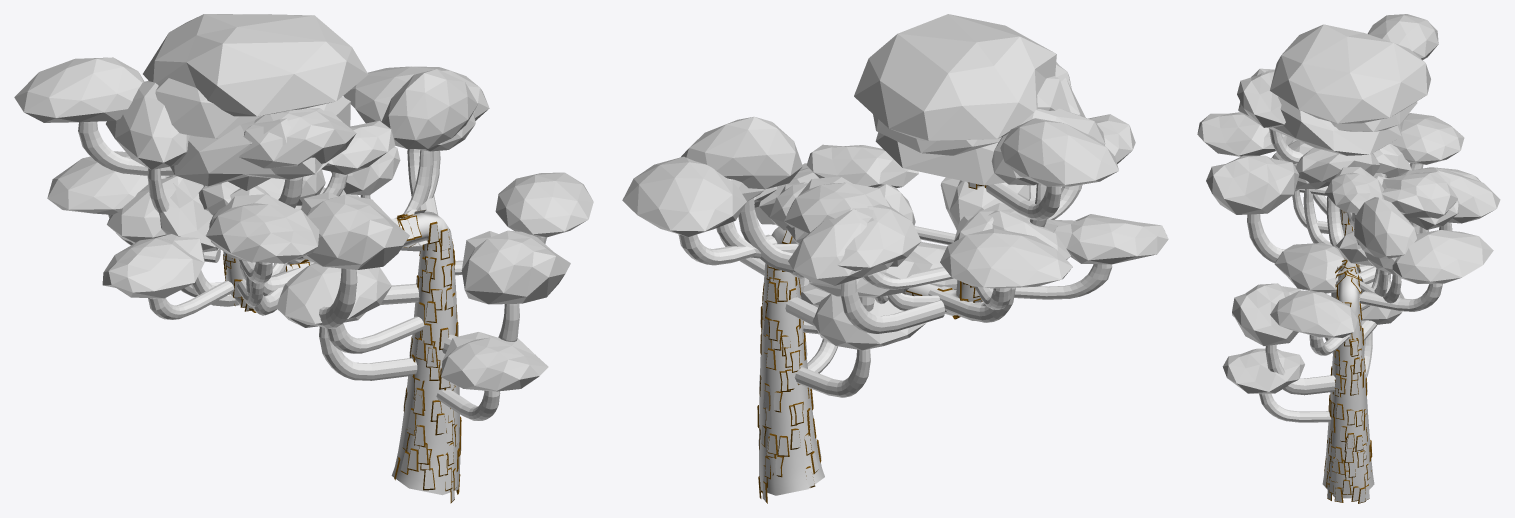
The model's file is Tree02.fbx.
The picture shows the model from 3 angles, left to right: view 1: azimuth 30°, elevation 25°; view 2: azimuth 150°, elevation 25°; view 3: azimuth 270°, elevation 25°; orthographic projection. The views are drawn at different scales.
Parts seen in each view (by area): view 1: Tree02; view 2: Tree02; view 3: Tree02.
Boxes of the visible parts, x1=… form: Tree02: x1=14, y1=14, x2=593, y2=503; Tree02: x1=622, y1=14, x2=1168, y2=503; Tree02: x1=1197, y1=14, x2=1500, y2=503.
Bounding box in the file's own units: 1040 × 993 × 700.
